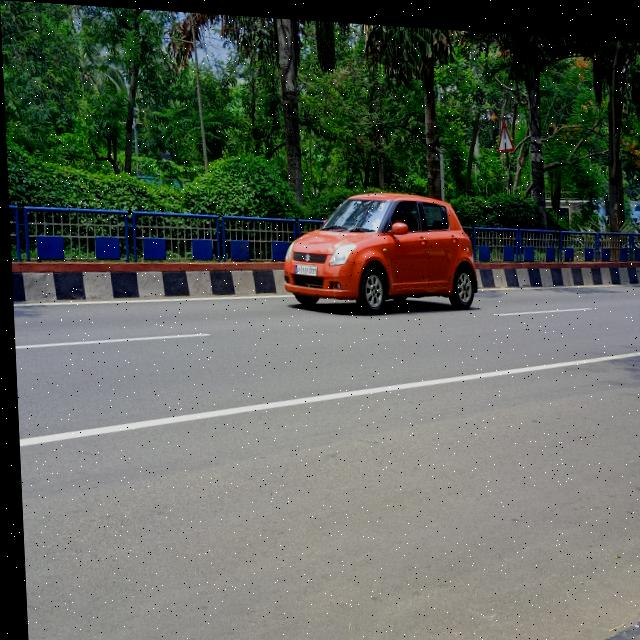car: (273, 176, 486, 333)
